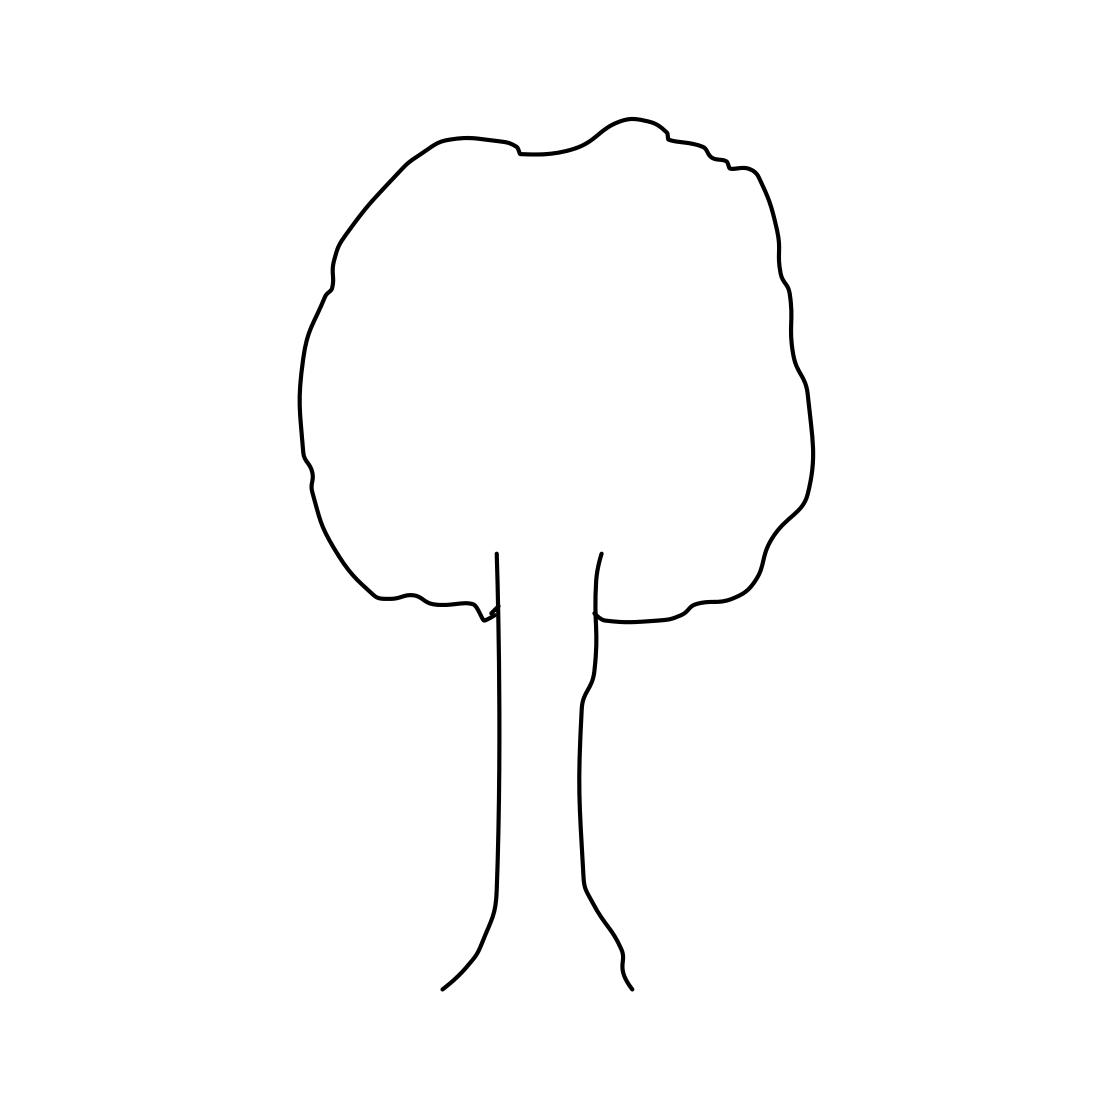Tree: (281, 98, 836, 1005)
